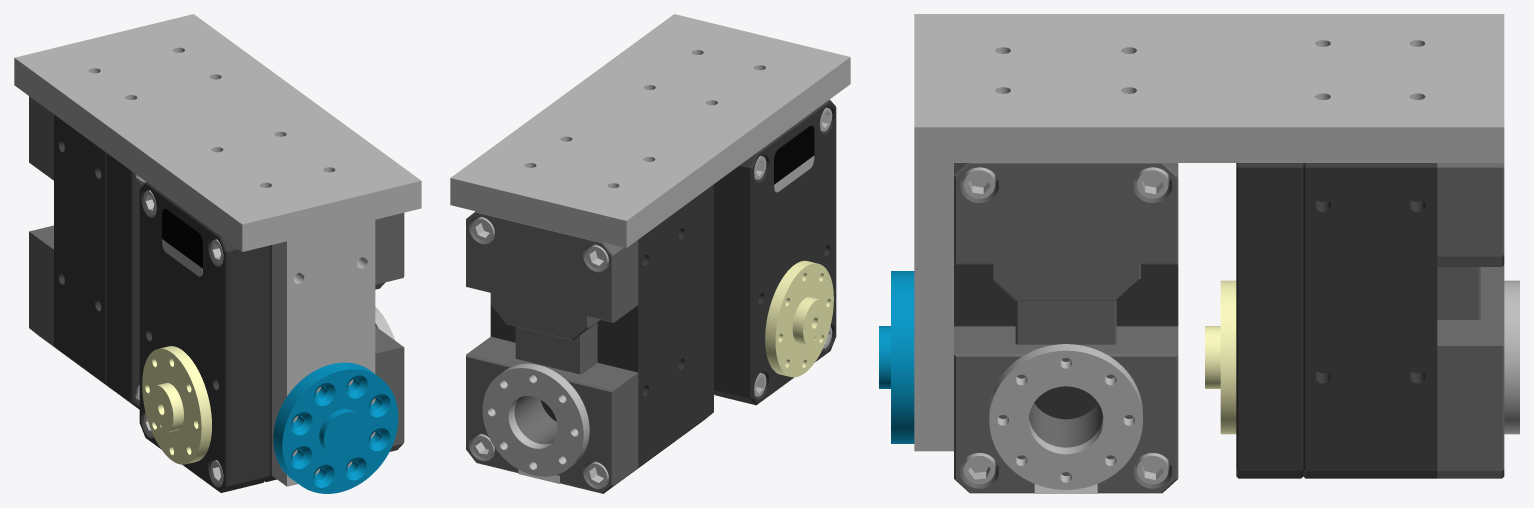
File: AnkleR.obj
3 renders of one model, left to right at view 1: azimuth 30°, elevation 25°; view 2: azimuth 150°, elevation 25°; view 3: azimuth 270°, elevation 25°, orthographic. The views are drawn at different scales.
Visible parts, largest first — view 1: Solid1, Solid1:4, Solid1:33, Solid1:34, Solid1:32, Solid1:20, Solid1:1, Solid1:22, Solid1:6, Solid1:2, Solid1:16, Solid1:3; view 2: Solid1, Solid1:22, Solid1:4, Solid1:32, Solid1:31, Solid1:1, Solid1:20, Solid1:2, Solid1:33; view 3: Solid1, Solid1:6, Solid1:32, Solid1:22, Solid1:20, Solid1:15, Solid1:33, Solid1:16, Solid1:34, Solid1:17, Solid1:31, Solid1:12 (+3 smaller).
Boxes of the visible parts, x1=… form: Solid1: x1=14, y1=14, x2=421, y2=251; Solid1:4: x1=139, y1=182, x2=269, y2=492; Solid1:33: x1=272, y1=181, x2=375, y2=486; Solid1:34: x1=273, y1=362, x2=398, y2=493; Solid1:32: x1=54, y1=114, x2=114, y2=391; Solid1:20: x1=106, y1=153, x2=145, y2=409; Solid1:1: x1=142, y1=346, x2=211, y2=464; Solid1:22: x1=29, y1=96, x2=61, y2=352; Solid1:6: x1=375, y1=213, x2=404, y2=451; Solid1:2: x1=162, y1=208, x2=202, y2=268; Solid1:16: x1=264, y1=245, x2=276, y2=481; Solid1:3: x1=162, y1=239, x2=202, y2=276; Solid1: x1=450, y1=14, x2=850, y2=247; Solid1:22: x1=466, y1=211, x2=638, y2=493; Solid1:4: x1=714, y1=99, x2=836, y2=405; Solid1:32: x1=490, y1=203, x2=688, y2=473; Solid1:31: x1=482, y1=363, x2=589, y2=476; Solid1:1: x1=765, y1=260, x2=833, y2=377; Solid1:20: x1=680, y1=184, x2=713, y2=437; Solid1:2: x1=774, y1=125, x2=814, y2=184; Solid1:33: x1=705, y1=25, x2=806, y2=56; Solid1: x1=914, y1=14, x2=1504, y2=162; Solid1:6: x1=954, y1=163, x2=1178, y2=493; Solid1:32: x1=1303, y1=163, x2=1437, y2=478; Solid1:22: x1=1437, y1=163, x2=1504, y2=478; Solid1:20: x1=1236, y1=163, x2=1303, y2=478; Solid1:15: x1=989, y1=344, x2=1142, y2=489; Solid1:33: x1=914, y1=42, x2=953, y2=451; Solid1:16: x1=954, y1=264, x2=1178, y2=419; Solid1:34: x1=879, y1=271, x2=914, y2=443; Solid1:17: x1=1205, y1=280, x2=1236, y2=434; Solid1:31: x1=1504, y1=280, x2=1519, y2=434; Solid1:12: x1=963, y1=167, x2=995, y2=198.
Size of the model in its own units: 0.04 by 0.0515 by 0.0814.
